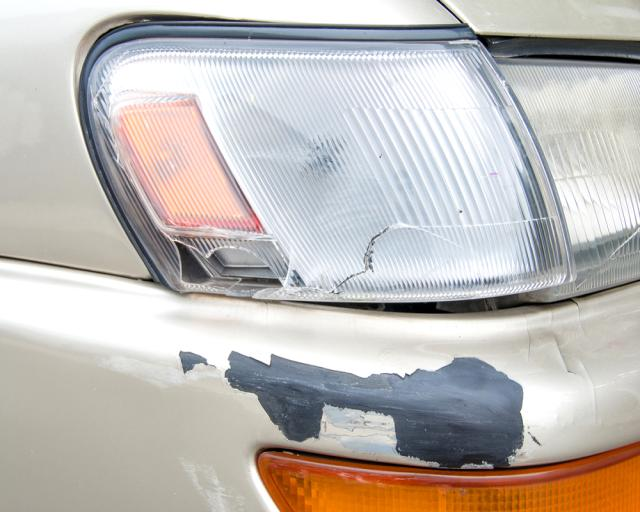lamp broken: (86, 37, 640, 303)
scratch: (94, 348, 539, 512)
